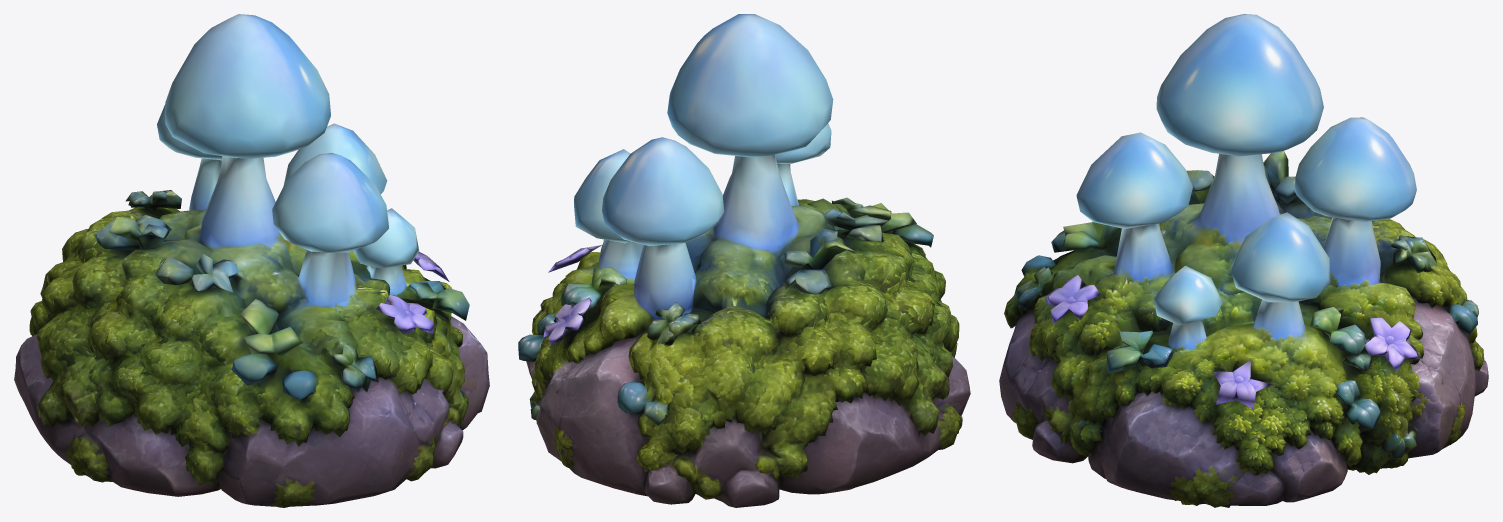
File: Kit_H_GlowShrooms_HD_src.glb
3 views of the same model, side by side, from view 1: azimuth 30°, elevation 25°; view 2: azimuth 150°, elevation 25°; view 3: azimuth 270°, elevation 25° (orthographic).
Visible parts, largest first — view 1: tripo_node_c8eb558e-bf3a-4a0e-9226-edb29e424966; view 2: tripo_node_c8eb558e-bf3a-4a0e-9226-edb29e424966; view 3: tripo_node_c8eb558e-bf3a-4a0e-9226-edb29e424966.
Part boxes in pixels (x1=…): tripo_node_c8eb558e-bf3a-4a0e-9226-edb29e424966: x1=14, y1=14, x2=489, y2=507; tripo_node_c8eb558e-bf3a-4a0e-9226-edb29e424966: x1=518, y1=14, x2=970, y2=507; tripo_node_c8eb558e-bf3a-4a0e-9226-edb29e424966: x1=999, y1=14, x2=1488, y2=507.
Size of the model in its own units: 0.9273 by 0.8861 by 0.9807.
1 material, 1 textured.
